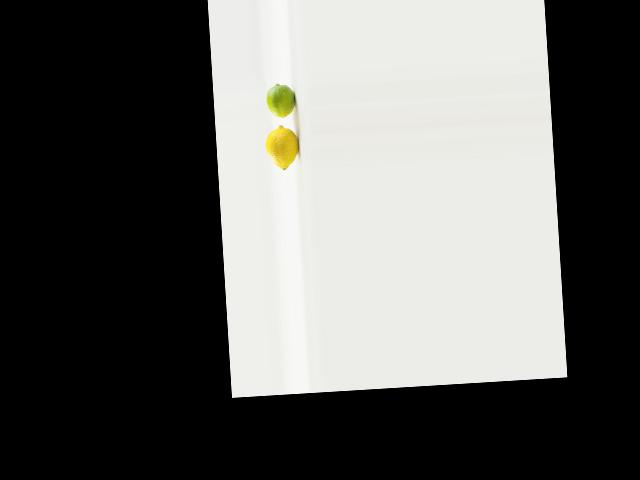lemon: (263, 126, 300, 170)
